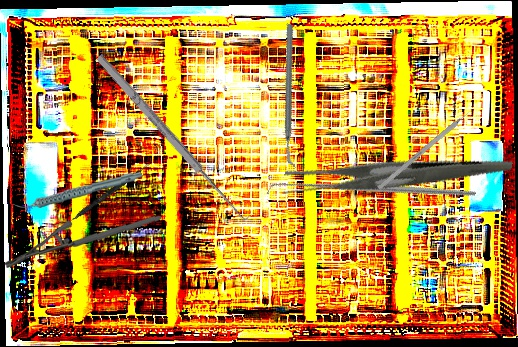Chopper: (233, 22, 350, 169)
Dressing Forceps: (279, 107, 514, 247)
Handpiece: (12, 170, 144, 210)
Hook Surgical: (266, 96, 477, 290), (93, 46, 257, 226), (377, 105, 477, 190)
Needle Holder: (3, 210, 162, 274)
Spatula Surgical: (54, 159, 153, 235)
